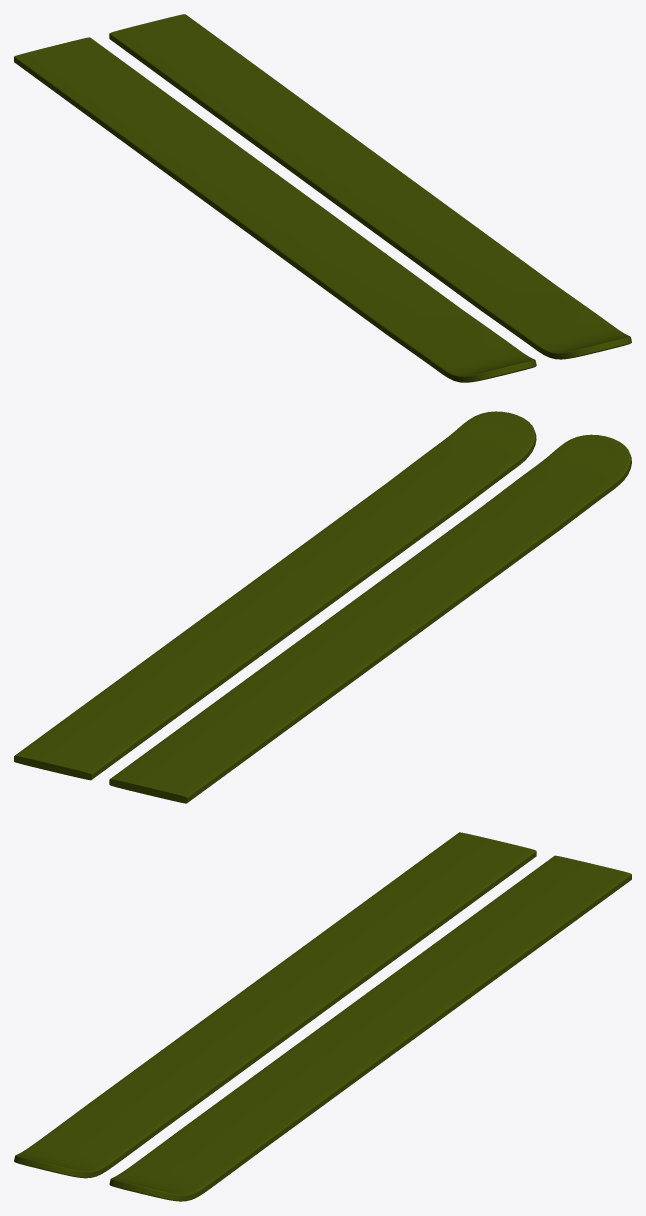
Rendered from skiboards.fbx.
The picture shows the model from 3 angles, top to bottom: view 1: azimuth 30°, elevation 25°; view 2: azimuth 150°, elevation 25°; view 3: azimuth 330°, elevation 25°; orthographic projection.
Visible parts, largest first — view 1: SkiboardLeft, SkiboardRight; view 2: SkiboardLeft, SkiboardRight; view 3: SkiboardLeft, SkiboardRight.
Boxes of the visible parts, x1,y1,x2,y2 form: SkiboardLeft: [109, 14, 631, 359]; SkiboardRight: [14, 37, 536, 382]; SkiboardLeft: [14, 411, 536, 780]; SkiboardRight: [109, 434, 631, 803]; SkiboardLeft: [109, 855, 631, 1201]; SkiboardRight: [14, 832, 536, 1178].
Size of the model in its own units: 2.05 by 0.2556 by 9.42.
